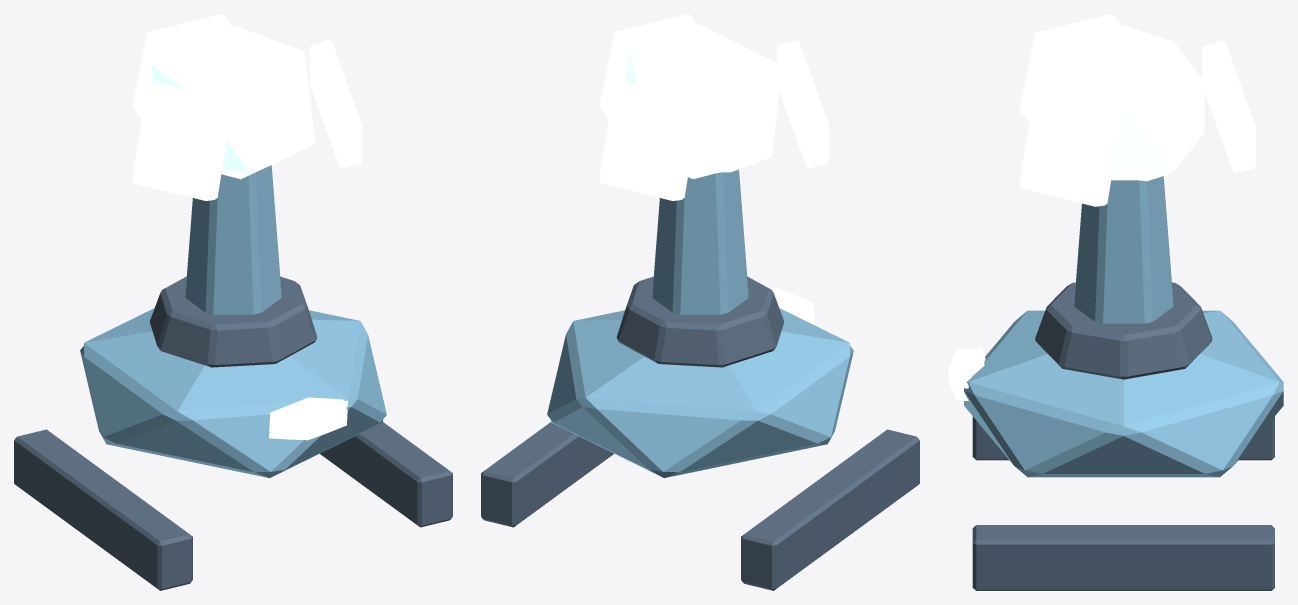
The model's file is warden.glb.
3 views of the same model, side by side, from view 1: azimuth 30°, elevation 25°; view 2: azimuth 150°, elevation 25°; view 3: azimuth 270°, elevation 25° (orthographic). The views are drawn at different scales.
Visible parts, largest first — view 1: Body, Skid, Field, Mast, Collar, Vane2, Vane3, Vane1, Eye; view 2: Body, Skid, Field, Mast, Collar, Vane1, Vane2, Vane3, Eye; view 3: Body, Skid, Field, Mast, Collar, Vane3, Vane1, Vane2, Eye.
Part boxes in pixels (bbox=[...]): Body: bbox=[80, 308, 386, 478]; Skid: bbox=[14, 422, 452, 590]; Field: bbox=[151, 25, 315, 179]; Mast: bbox=[185, 165, 281, 314]; Collar: bbox=[149, 276, 317, 367]; Vane2: bbox=[132, 82, 232, 200]; Vane3: bbox=[309, 40, 362, 168]; Vane1: bbox=[132, 14, 231, 118]; Eye: bbox=[269, 397, 347, 440]; Body: bbox=[547, 308, 853, 478]; Skid: bbox=[481, 422, 919, 590]; Field: bbox=[625, 25, 779, 179]; Mast: bbox=[652, 169, 748, 314]; Collar: bbox=[616, 276, 784, 367]; Vane1: bbox=[599, 82, 699, 200]; Vane2: bbox=[776, 40, 829, 168]; Vane3: bbox=[599, 14, 698, 118]; Eye: bbox=[769, 287, 814, 325]; Body: bbox=[964, 310, 1283, 477]; Skid: bbox=[972, 416, 1274, 590]; Field: bbox=[1043, 25, 1204, 181]; Mast: bbox=[1074, 176, 1173, 323]; Collar: bbox=[1035, 282, 1212, 379]; Vane3: bbox=[1019, 84, 1122, 206]; Vane1: bbox=[1202, 41, 1256, 173]; Vane2: bbox=[1019, 14, 1121, 121]; Eye: bbox=[948, 348, 985, 400].
Bounding box in the file's own units: 1 × 1.55 × 0.9544.
